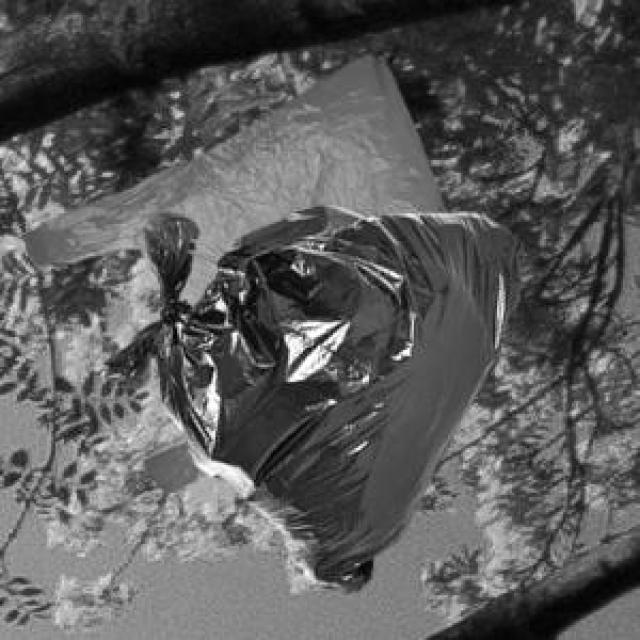miscellaneous trash: (96, 203, 518, 589)
